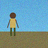person: (7, 12, 18, 36)
